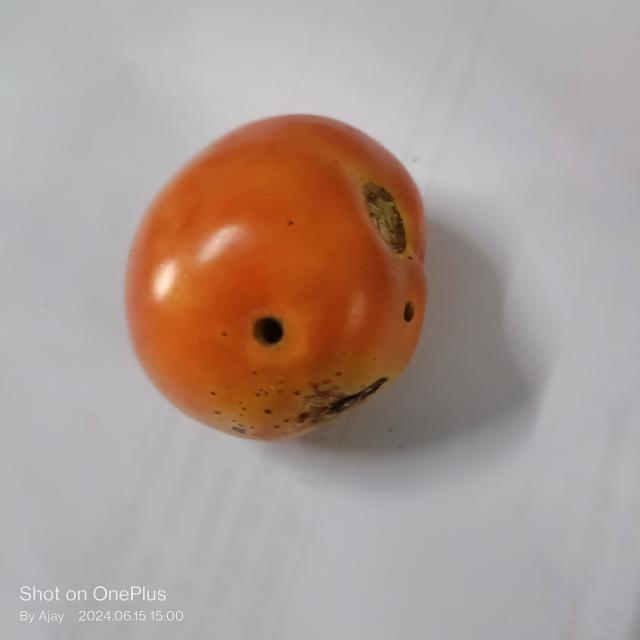fruitworm_bore: (245, 312, 294, 354), (396, 295, 422, 326)
